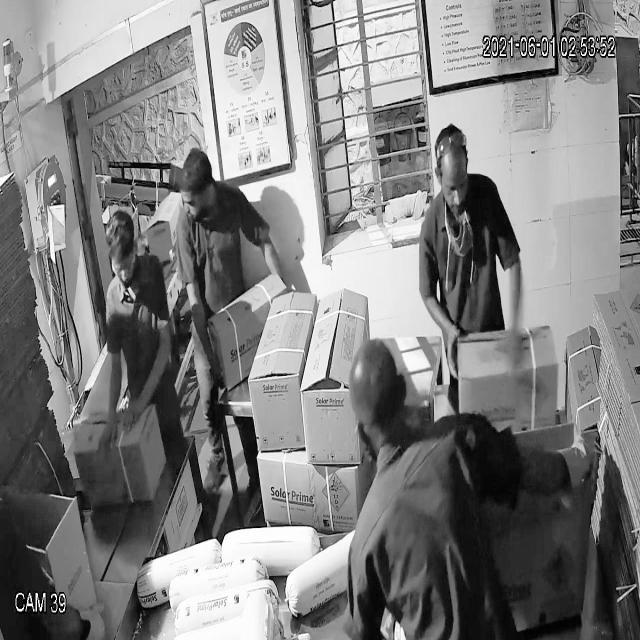glasses: (107, 250, 141, 285)
no-glass: (436, 167, 472, 204)
